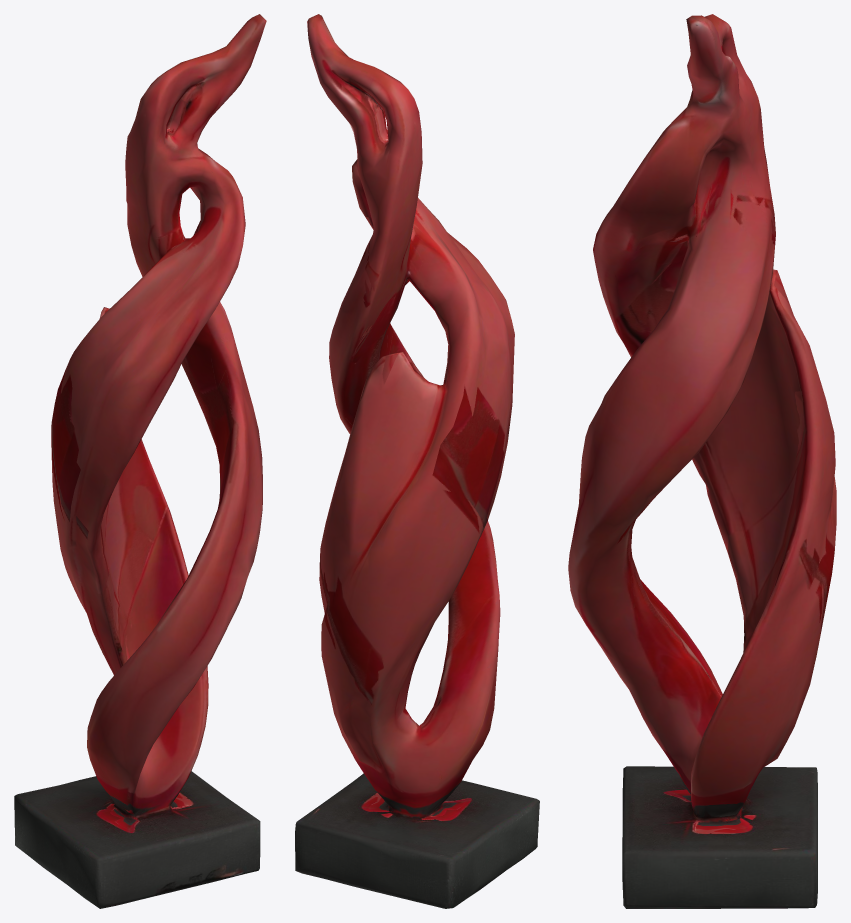
The model's file is Elegance_in_Red_1102171459_texture.obj.
The picture shows the model from 3 angles, left to right: view 1: azimuth 30°, elevation 25°; view 2: azimuth 150°, elevation 25°; view 3: azimuth 270°, elevation 25°; orthographic projection. The views are drawn at different scales.
Parts seen in each view (by area): view 1: Elegance_in_Red_1102171459_texture; view 2: Elegance_in_Red_1102171459_texture; view 3: Elegance_in_Red_1102171459_texture.
Part boxes in pixels (box(x1,y1,x2,y2)): Elegance_in_Red_1102171459_texture: box(14, 14, 266, 908); Elegance_in_Red_1102171459_texture: box(295, 14, 539, 908); Elegance_in_Red_1102171459_texture: box(568, 14, 836, 908).
Bounding box in the file's own units: 3.24 × 12.61 × 3.37.
1 material, 1 textured.
